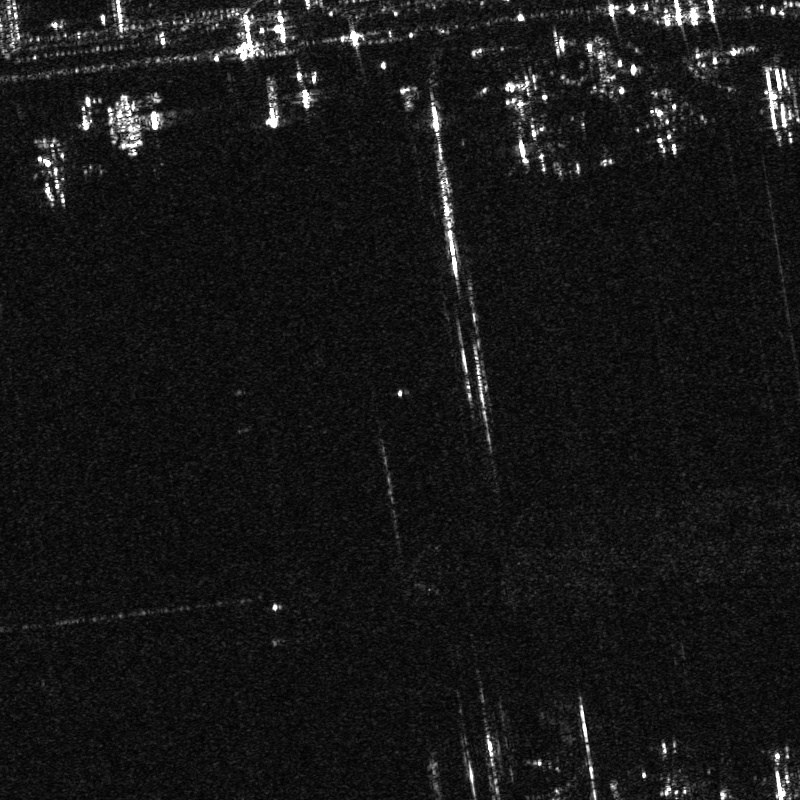Boeing787: (16, 135, 94, 210), (631, 82, 705, 158), (559, 33, 636, 104)
